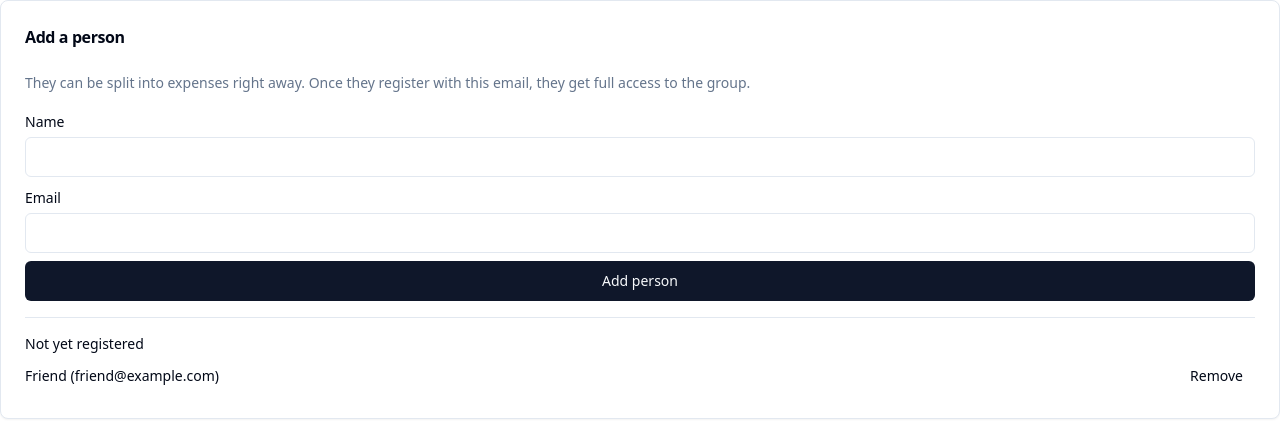
AddMemberManager › removes a pending member from the list
Check: the text "Friend (friend@example.com)" is shown, box [25,366,219,386]
Click the button "Remove".
click(1217, 376)  # box [1178,358,1255,394]
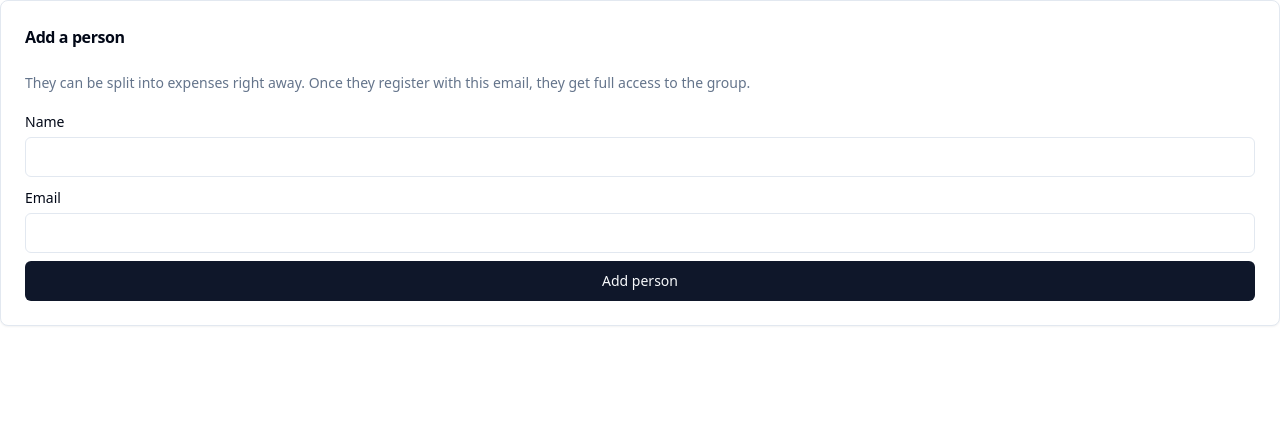
Check: the text "Friend (friend@example.com)" is gone
